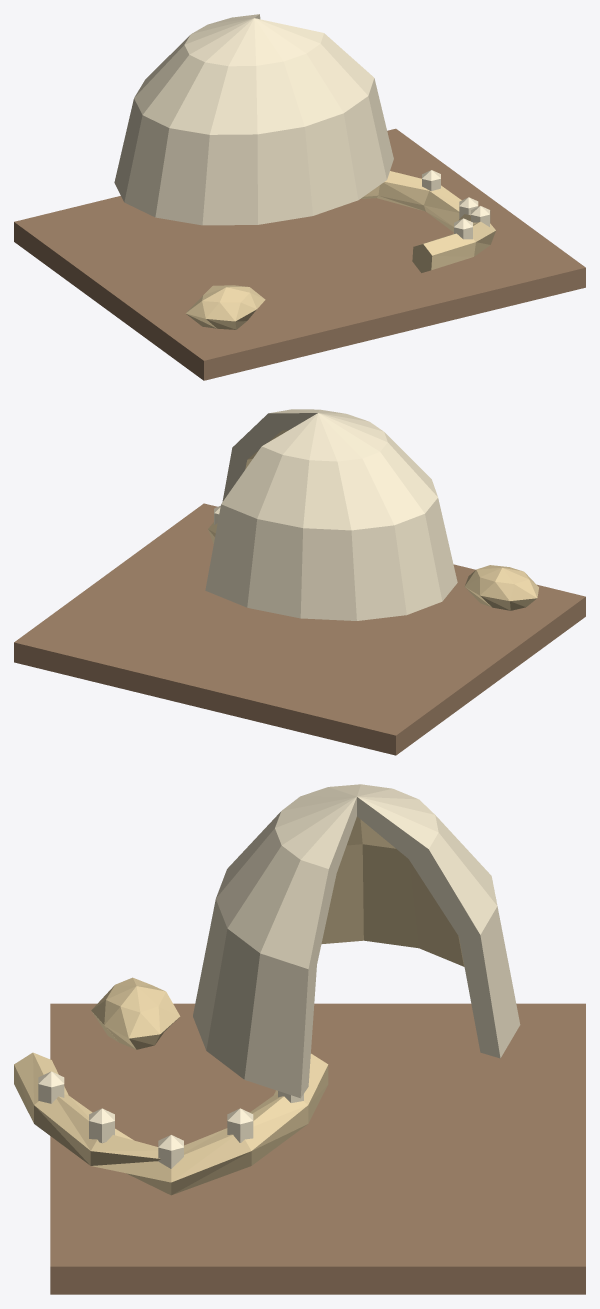
Rendered from dmanisi-stratum-b-hominins.609340a49890.glb.
3 views of the same model, one above another, from view 1: azimuth 30°, elevation 25°; view 2: azimuth 150°, elevation 25°; view 3: azimuth 270°, elevation 25° (orthographic). The views are drawn at different scales.
Visible parts, largest first — view 1: dmanisi-stratum-b-hominins; view 2: dmanisi-stratum-b-hominins; view 3: dmanisi-stratum-b-hominins.
Part boxes in pixels (x1,y1,x2,y2): dmanisi-stratum-b-hominins: [14, 14, 585, 380]; dmanisi-stratum-b-hominins: [14, 409, 585, 755]; dmanisi-stratum-b-hominins: [14, 784, 585, 1294].
Bounding box in the file's own units: 1 × 0.6111 × 0.9193.
